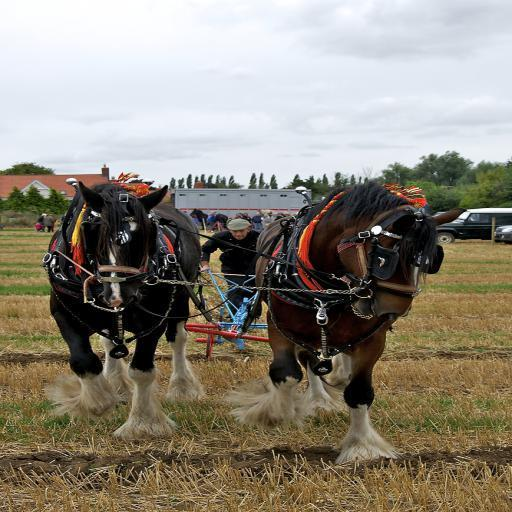horse: (246, 174, 438, 470), (40, 178, 206, 440)
